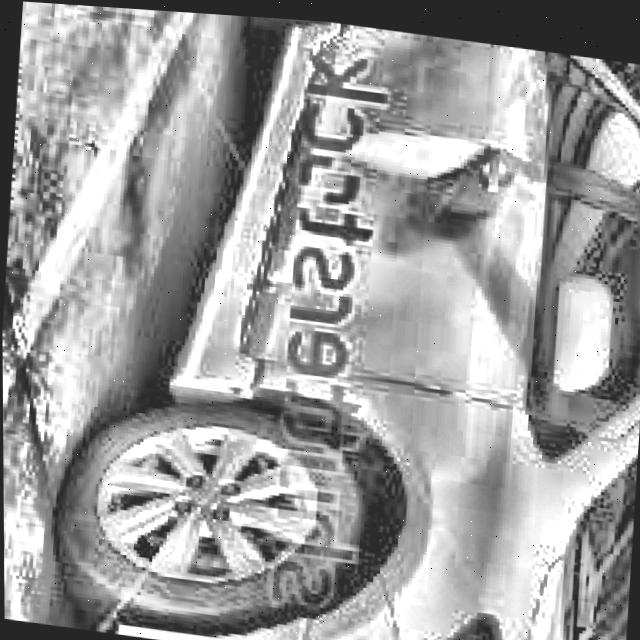door_dent: (317, 120, 501, 253)
